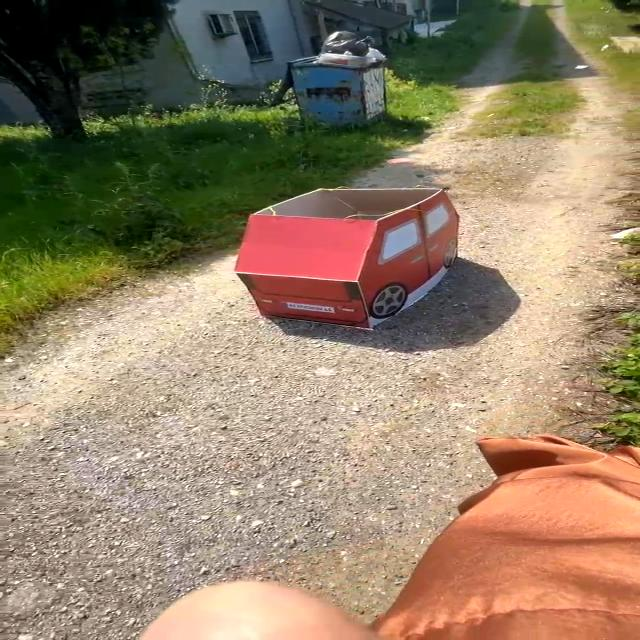red_car: (205, 177, 508, 351)
